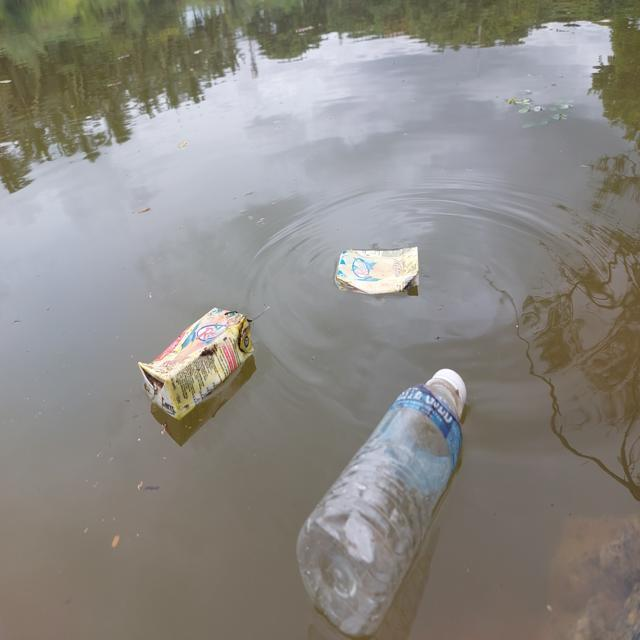paper: (128, 274, 265, 437), (338, 239, 426, 309)
waterbottle: (298, 360, 506, 635)
